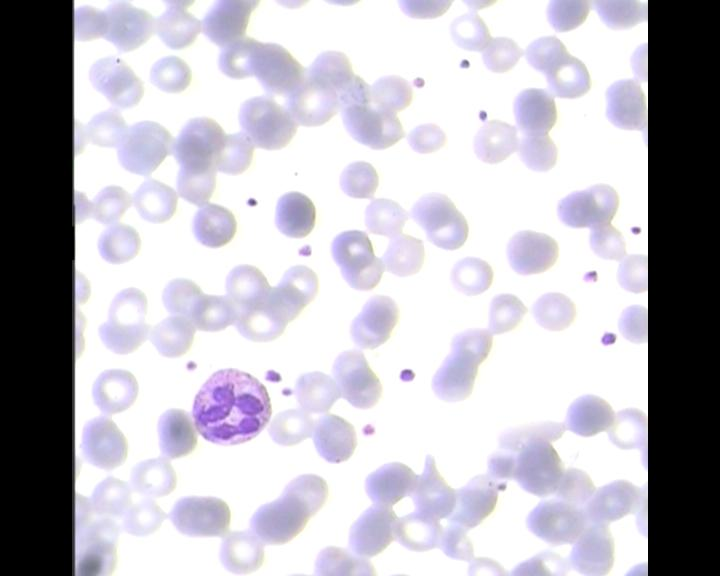neut: (188, 365, 275, 449)
